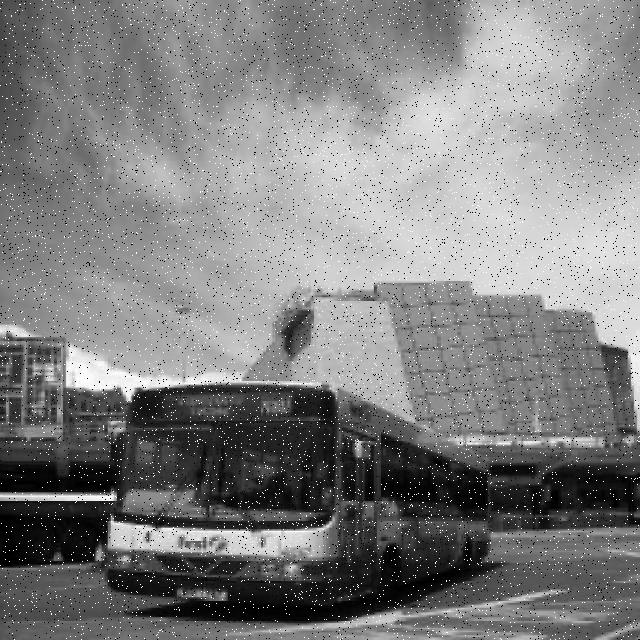Bus: (102, 381, 492, 614)
